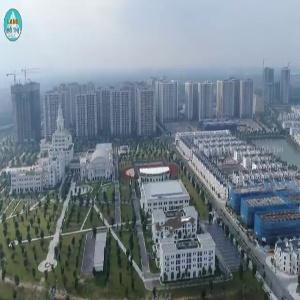drone: (139, 188, 218, 267)
